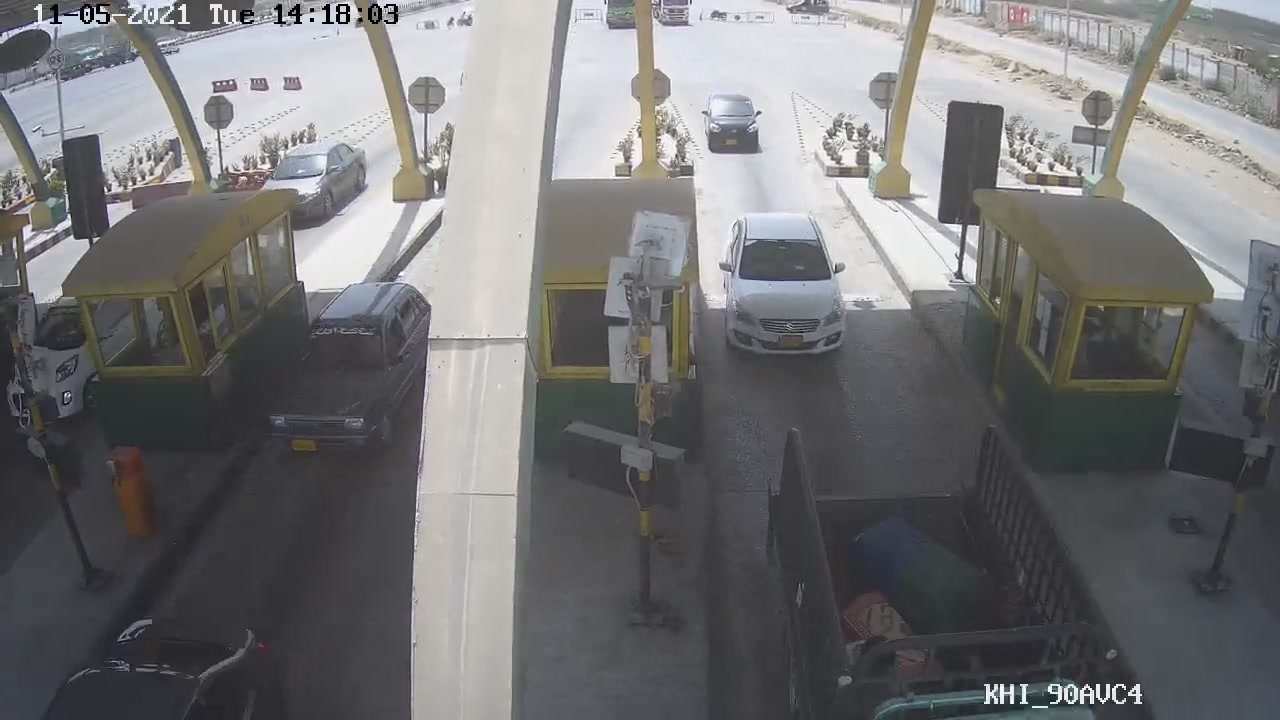F1: (715, 208, 850, 373)
